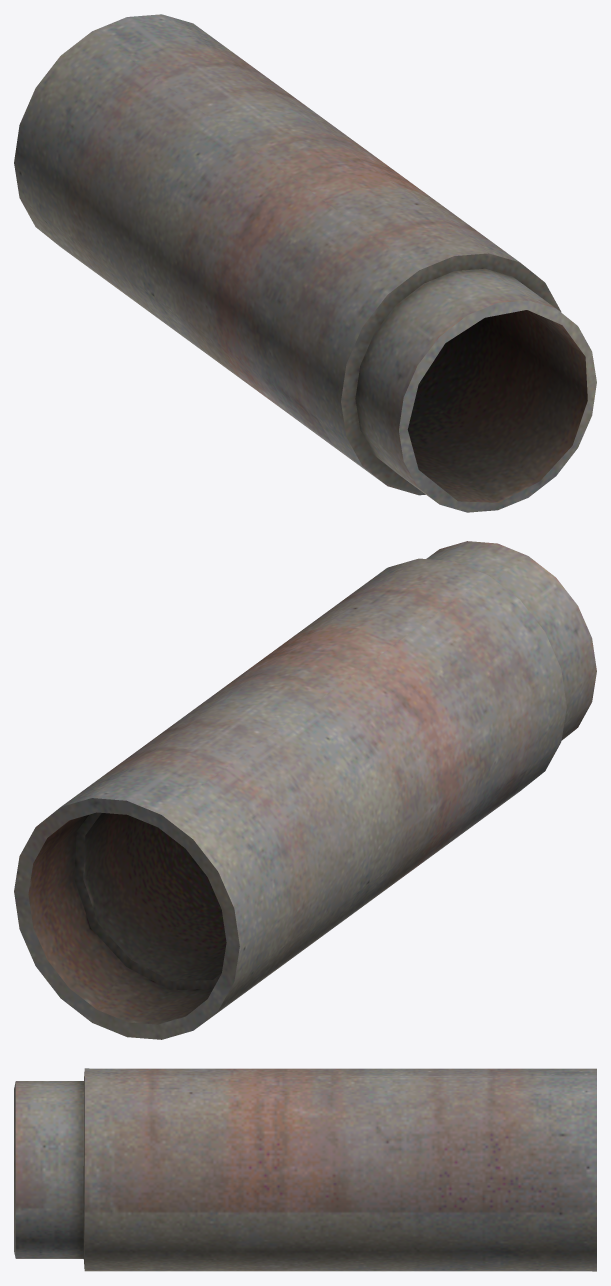
The model's file is construction.007_construction_assets_0.001_lev3.glb.
3 views of the same model, one above another, from view 1: azimuth 30°, elevation 25°; view 2: azimuth 150°, elevation 25°; view 3: azimuth 270°, elevation 25° (orthographic). The views are drawn at different scales.
Parts seen in each view (by area): view 1: construction.007_construction_assets_0.001_lev3; view 2: construction.007_construction_assets_0.001_lev3; view 3: construction.007_construction_assets_0.001_lev3.
Part boxes in pixels (x1,y1,x2,y2): construction.007_construction_assets_0.001_lev3: (14,14,596,512); construction.007_construction_assets_0.001_lev3: (14,541,596,1039); construction.007_construction_assets_0.001_lev3: (14,1068,596,1271).
Bounding box in the file's own units: 3.53 × 3.53 × 10.07.
1 material, 1 textured.
